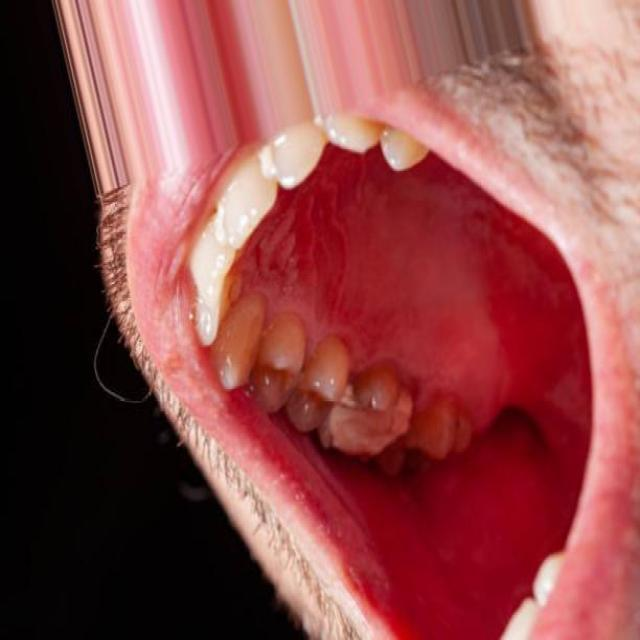caries: (323, 375, 413, 462)
